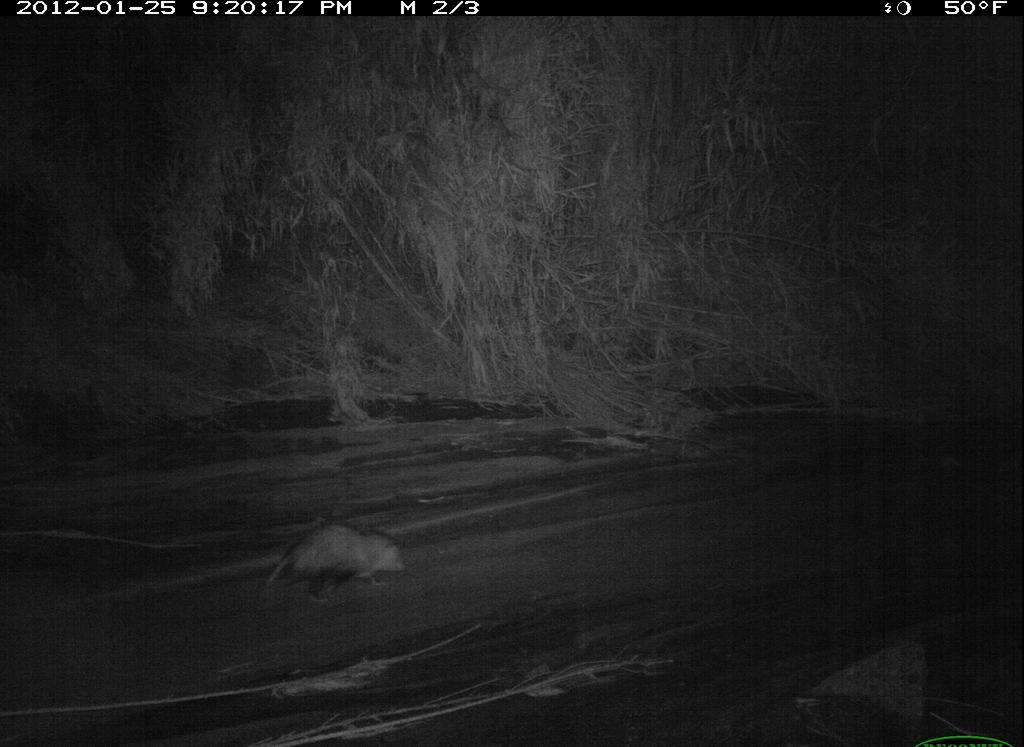opossum: (260, 518, 413, 609)
